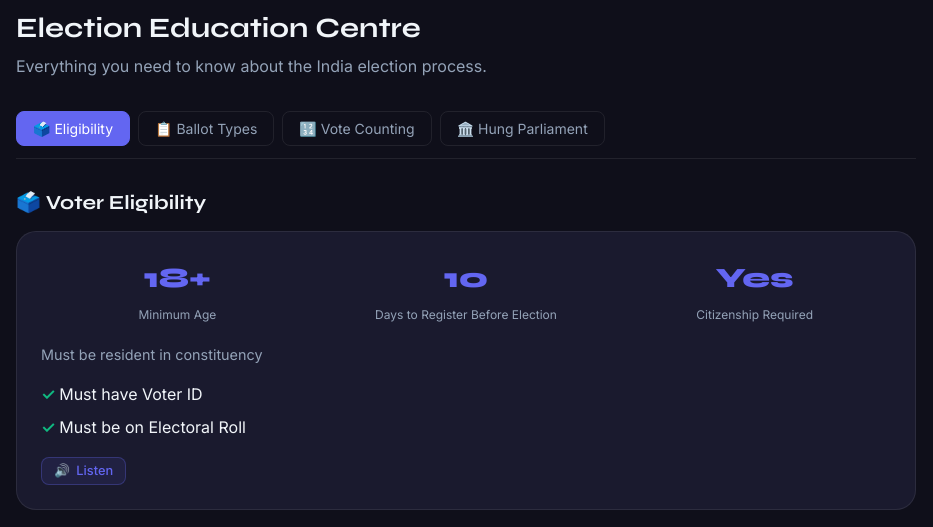
Test: TutorPage › switches to Ballot Types tab on click
The image size is (933, 527).
Click the tab "📋 Ballot Types" at (206, 129), box [138,111,274,146]
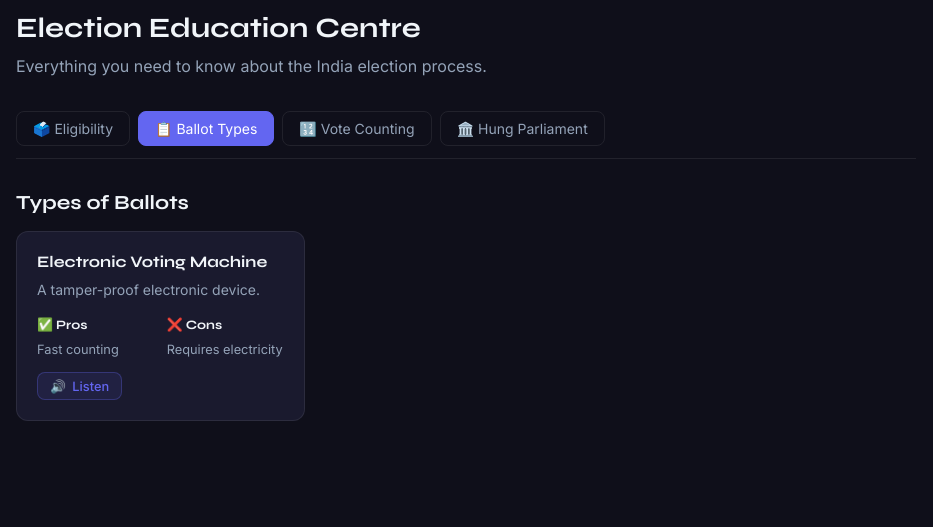
Expected: the heading "Electronic Voting Machine" is shown, [37,252,284,271]
